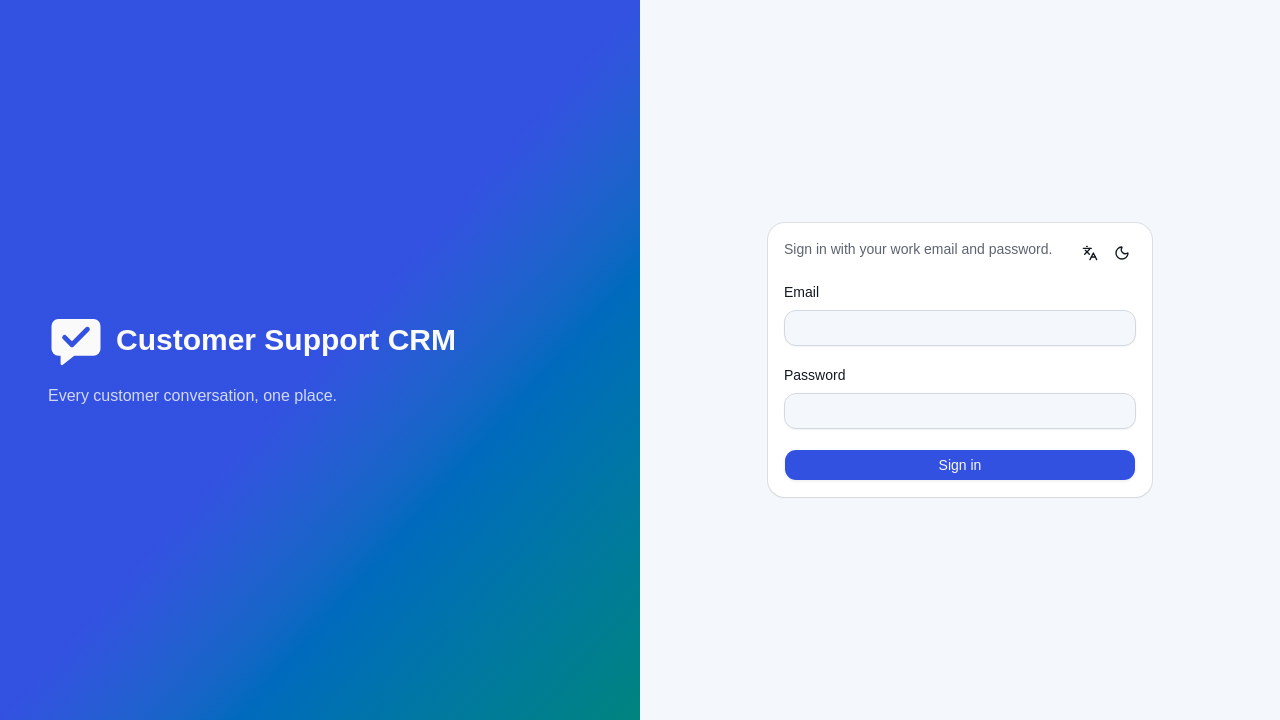
Test case: Language switching (ar / en) › switching to Arabic sets <html dir="rtl" lang="ar"> and translates the page
The width and height of the screenshot is (1280, 720).
Expected: the form "Sign in" is shown, [784,283,1136,481]
Click the button named "العربية".
click(1090, 253)  # box [1076,239,1104,267]
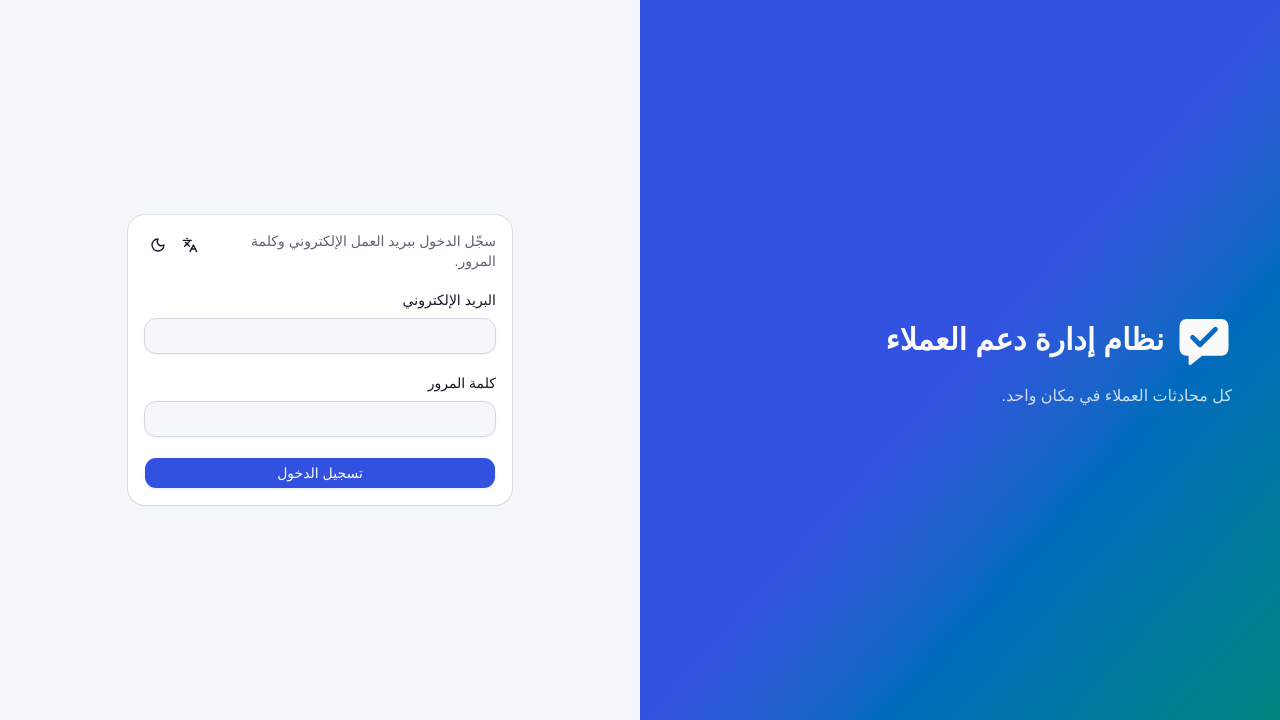
Result: the form "تسجيل الدخول" is shown at [144,291,496,489]
Result: the heading "نظام إدارة دعم العملاء" is shown at [886,312,1232,368]
